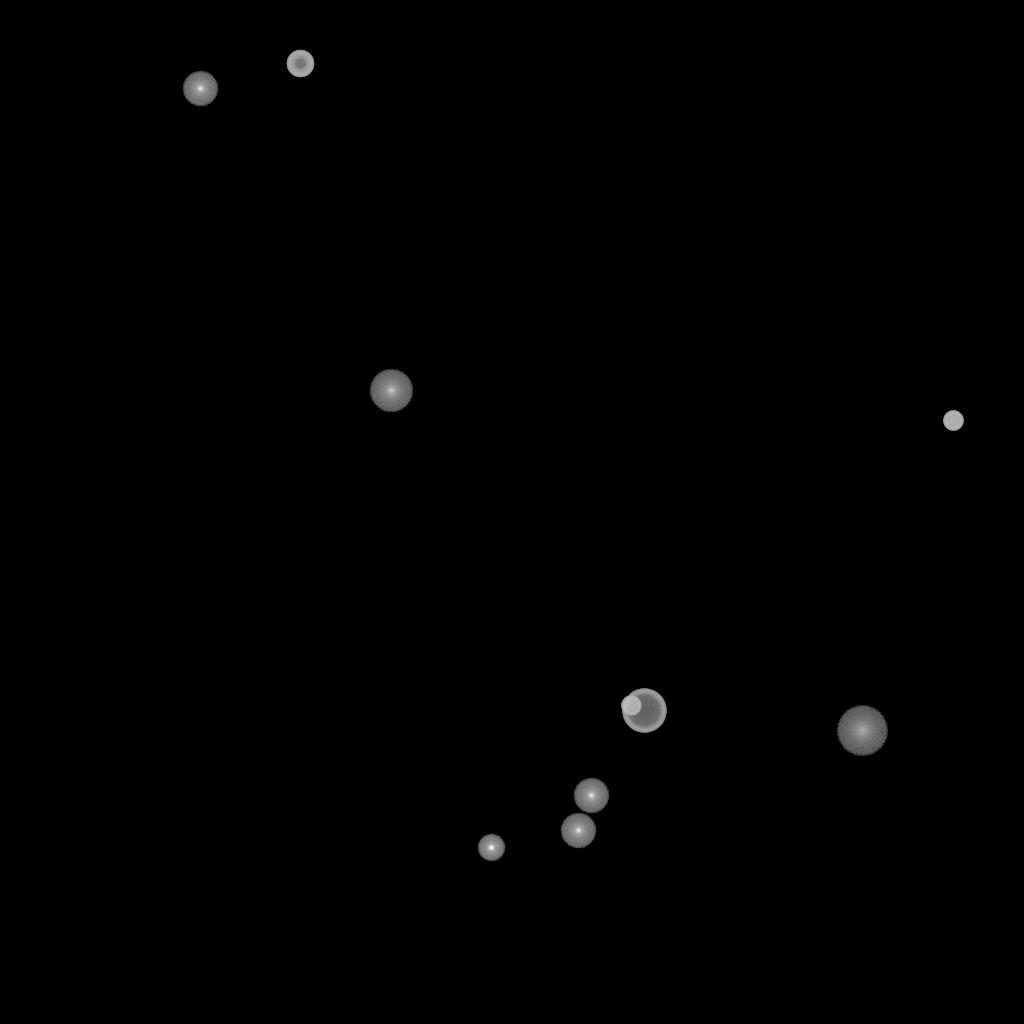depth:-10: (477, 834, 505, 862)
depth:-40: (621, 696, 641, 716), (943, 411, 963, 431)
depth:-50: (286, 50, 314, 78)
depth:-70: (622, 689, 666, 733)
depth:0: (560, 813, 596, 849), (182, 71, 218, 107), (573, 778, 609, 814)
depth:10: (369, 369, 413, 413)
depth:20: (836, 706, 888, 756)
